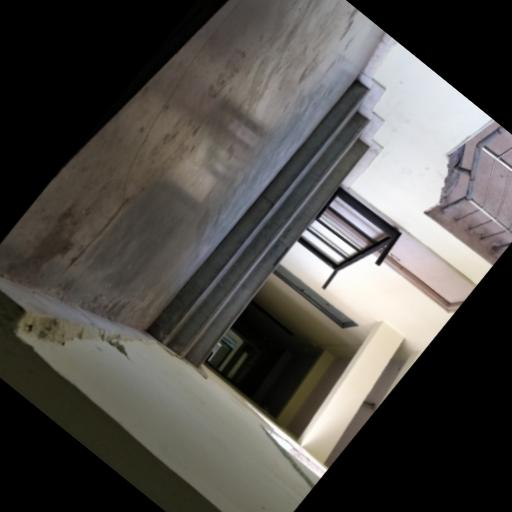stairs: (147, 79, 368, 365)
